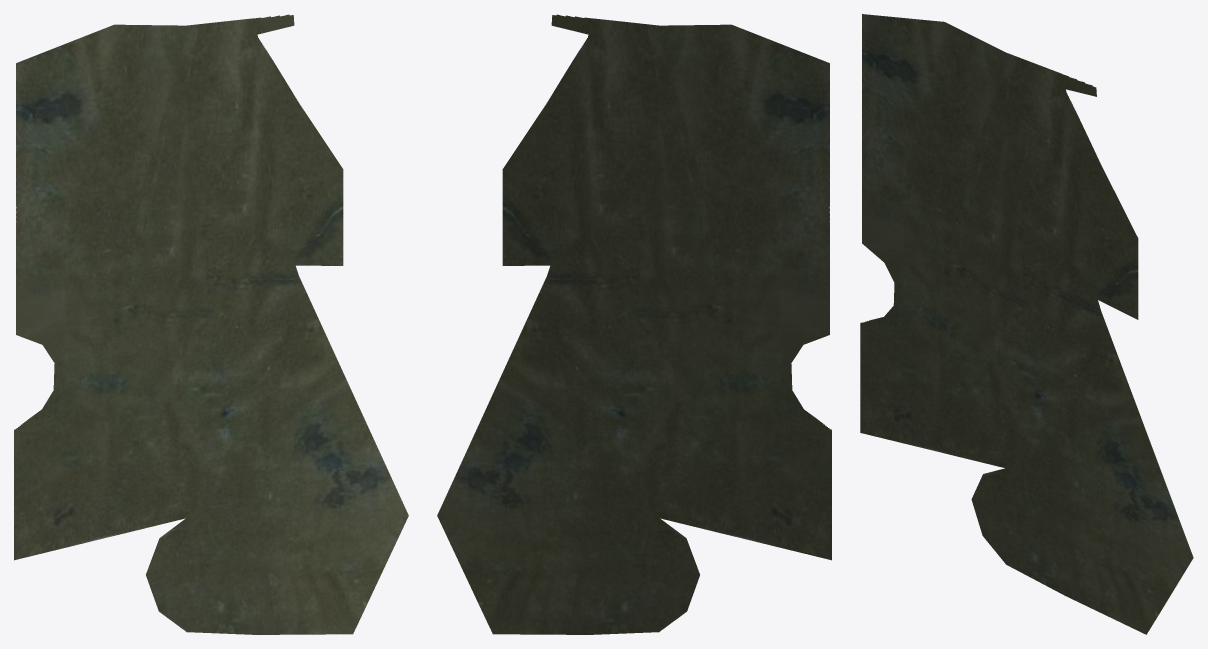
The model's file is GreenPlane.fbx.
3 views of the same model, side by side, from view 1: azimuth 30°, elevation 25°; view 2: azimuth 150°, elevation 25°; view 3: azimuth 330°, elevation 25° (orthographic). The views are drawn at different scales.
Parts seen in each view (by area): view 1: pasted__pPlane1; view 2: pasted__pPlane1; view 3: pasted__pPlane1.
Part boxes in pixels (x1=…): pasted__pPlane1: x1=14, y1=14, x2=408, y2=634; pasted__pPlane1: x1=437, y1=14, x2=831, y2=634; pasted__pPlane1: x1=860, y1=14, x2=1193, y2=634.
Bounding box in the file's own units: 3.7 × 5.98 × 0.
